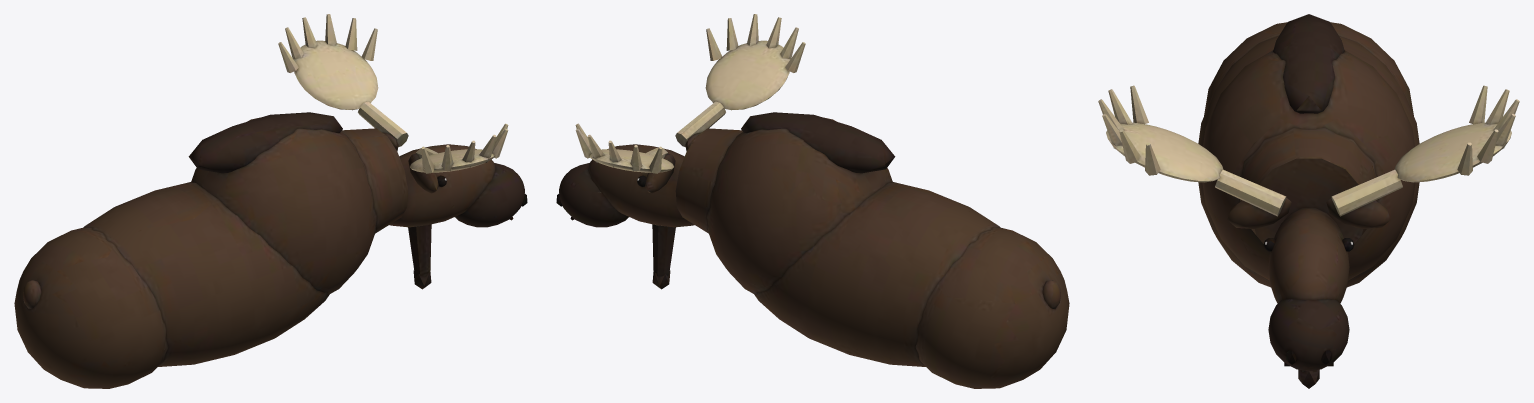
The model's file is alce.glb.
3 renders of one model, left to right at view 1: azimuth 30°, elevation 25°; view 2: azimuth 150°, elevation 25°; view 3: azimuth 270°, elevation 25°, orthographic. The views are drawn at different scales.
Parts seen in each view (by area): view 1: alce; view 2: alce; view 3: alce.
Boxes of the visible parts, box(x1,y1,x2,y2) form: alce: box(14, 14, 527, 388); alce: box(556, 14, 1069, 388); alce: box(1098, 14, 1519, 388).
Bounding box in the file's own units: 3.14 × 1.4 × 1.87.
Materials: 1 (1 with a texture image).
